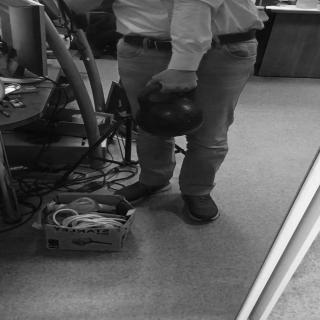kettlebell: (134, 81, 207, 139)
